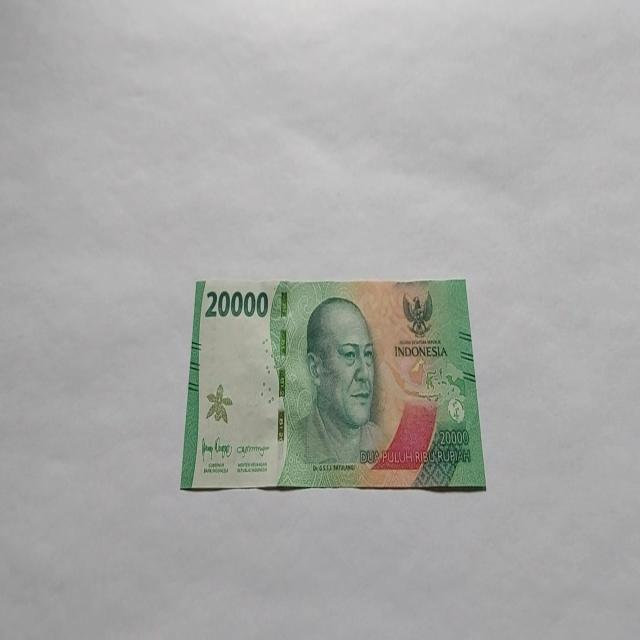dua puluh ribu rupiah: (179, 276, 486, 492), (278, 294, 392, 486)
